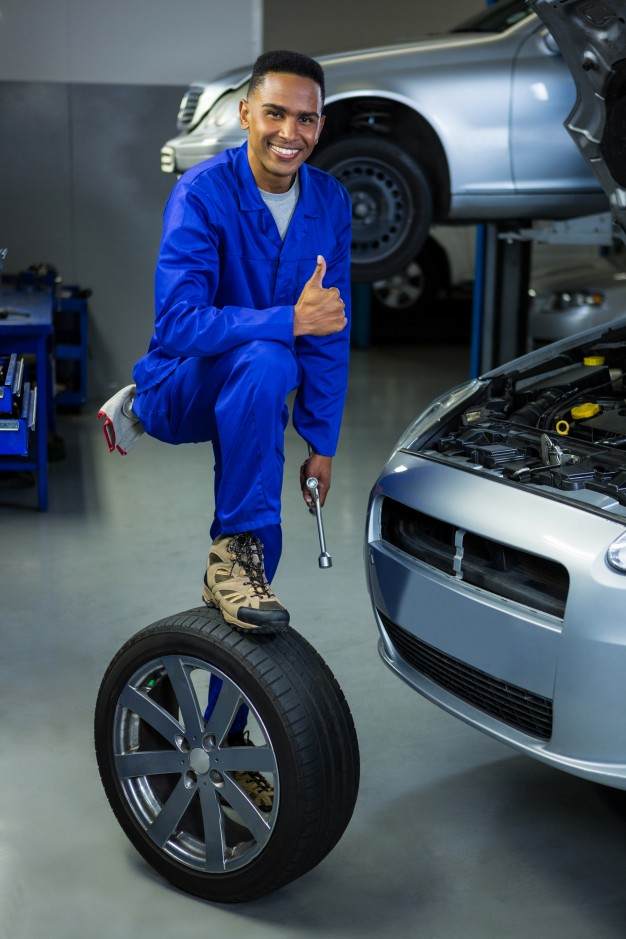thumbsup: (311, 254, 348, 336)
